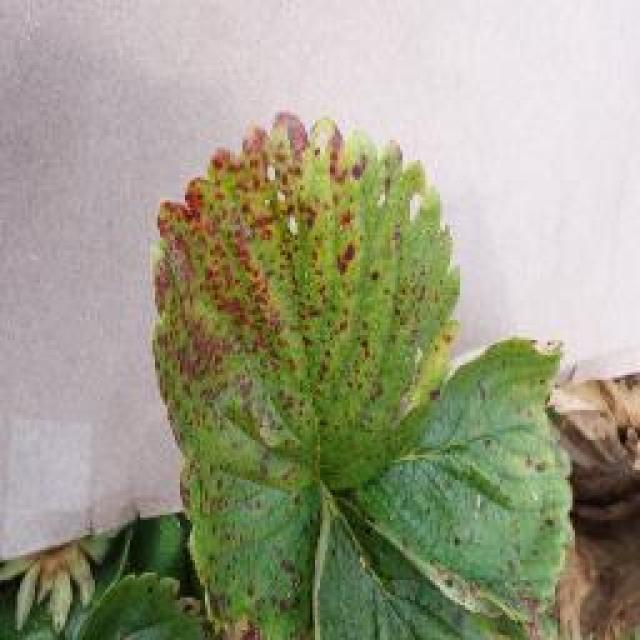Strawberry leaf scorch: (123, 128, 370, 422)
